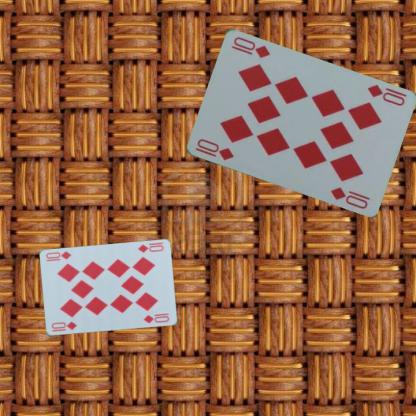10d: (364, 82, 408, 108), (192, 136, 235, 162), (135, 242, 165, 254), (49, 319, 78, 331)
